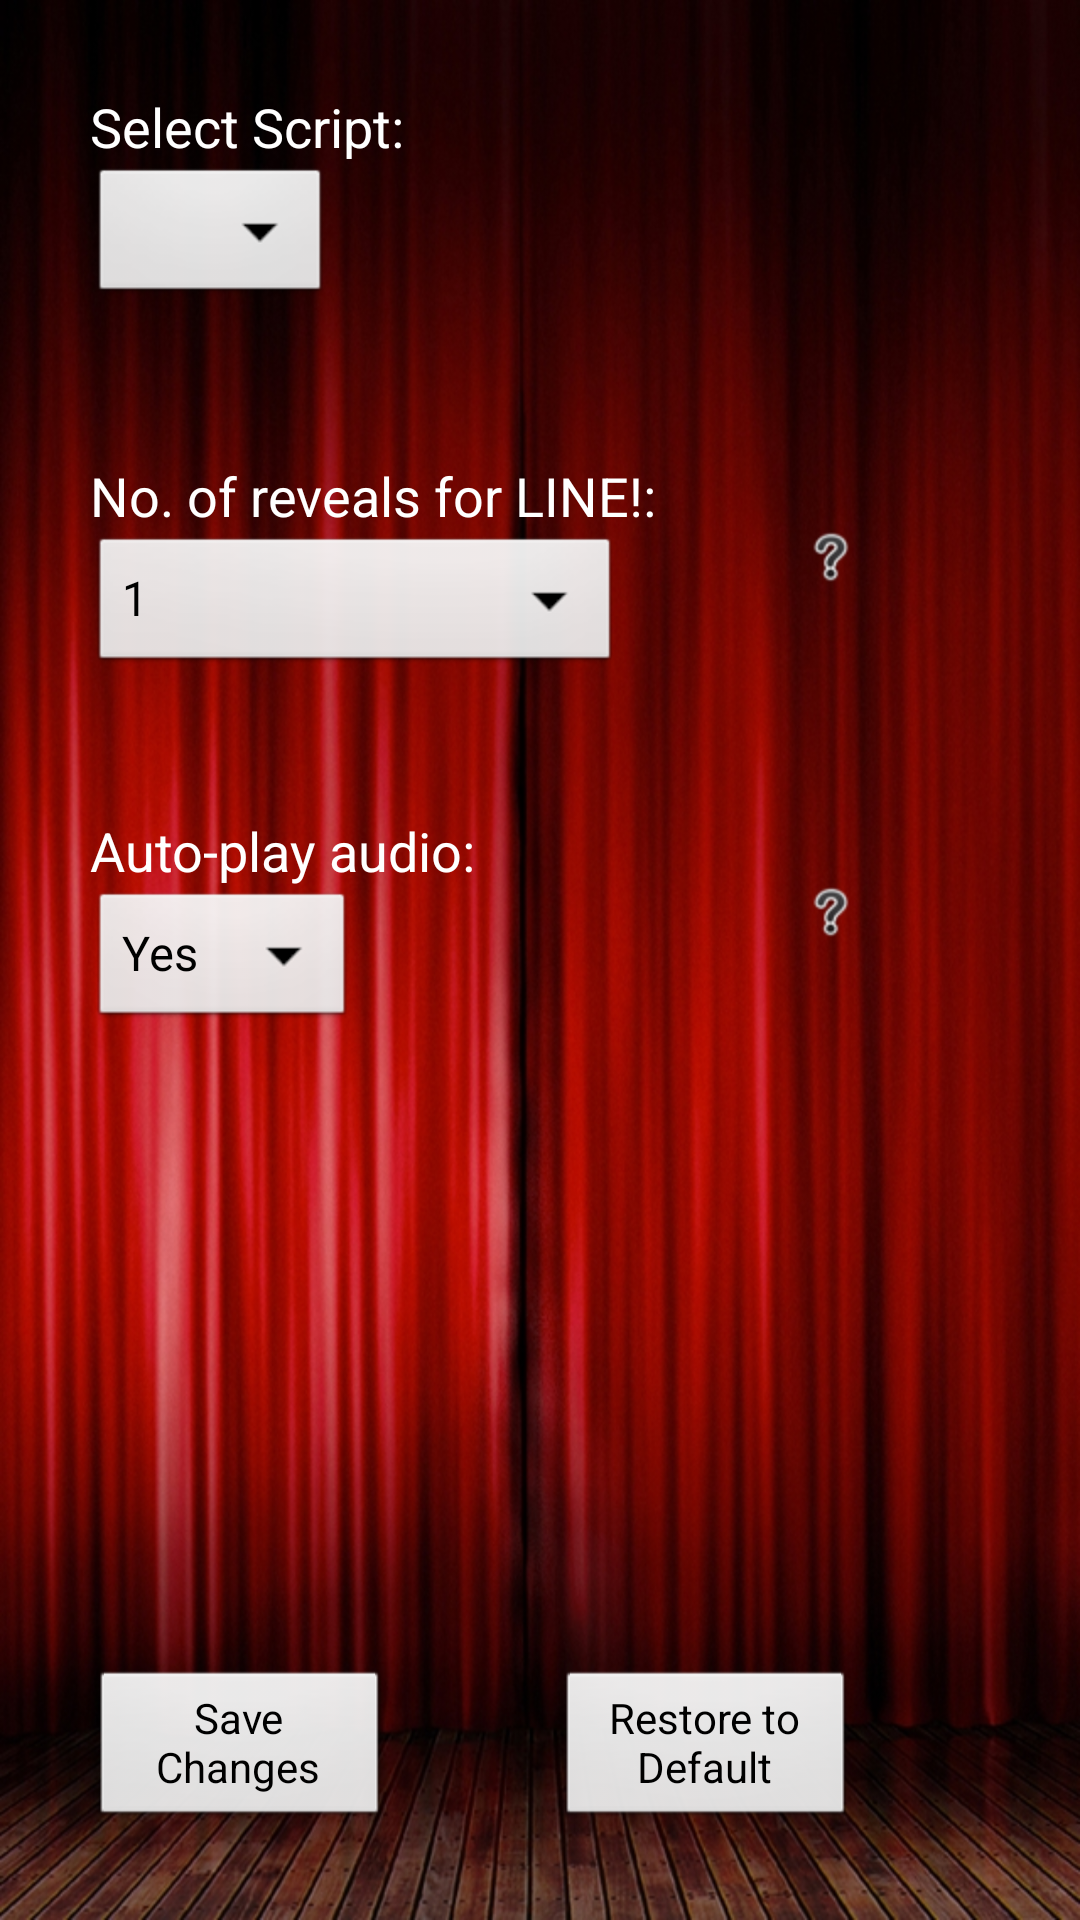

Icons on this 1080x1920 Android screen, each with its box as (x1=x1, y1=y1, x2=x2, y2=y2):
help: (x1=813, y1=533, x2=849, y2=582), (x1=813, y1=887, x2=849, y2=937)
